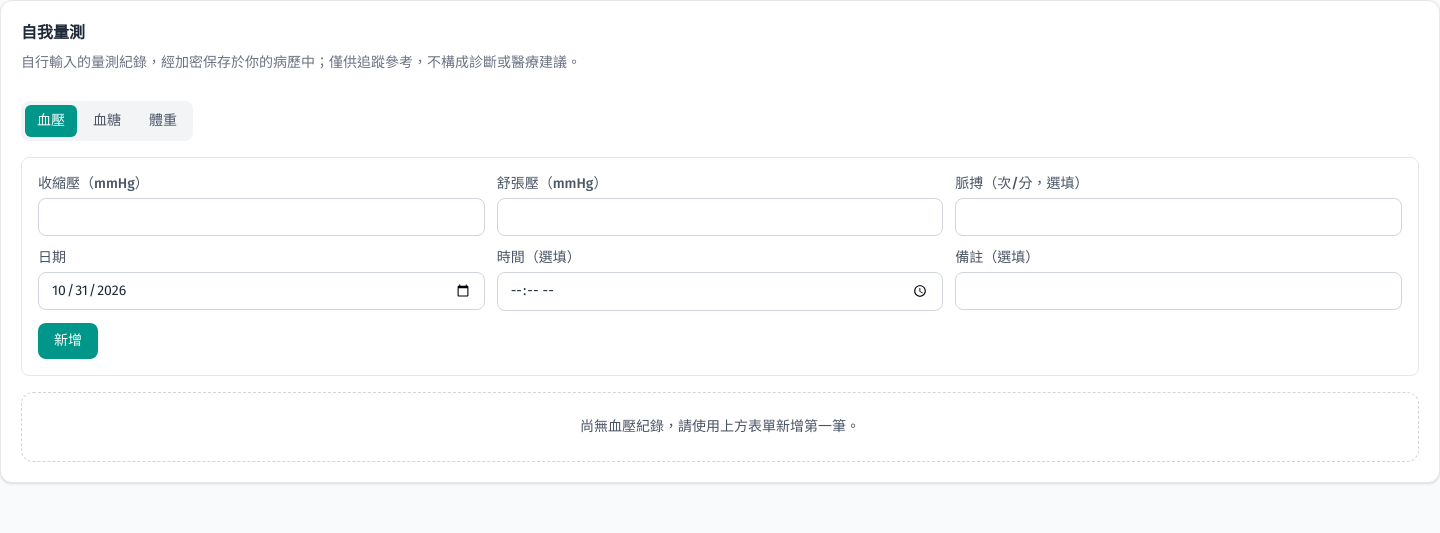
Test: Measurements 自我量測 › 新增紀錄 › 收縮壓不大於舒張壓時顯示錯誤，不呼叫 update 且保留輸入
The width and height of the screenshot is (1440, 533).
Type "80" into the field labelled "收縮壓（mmHg）" at (261, 217), box x1=38 y1=198 x2=485 y2=236
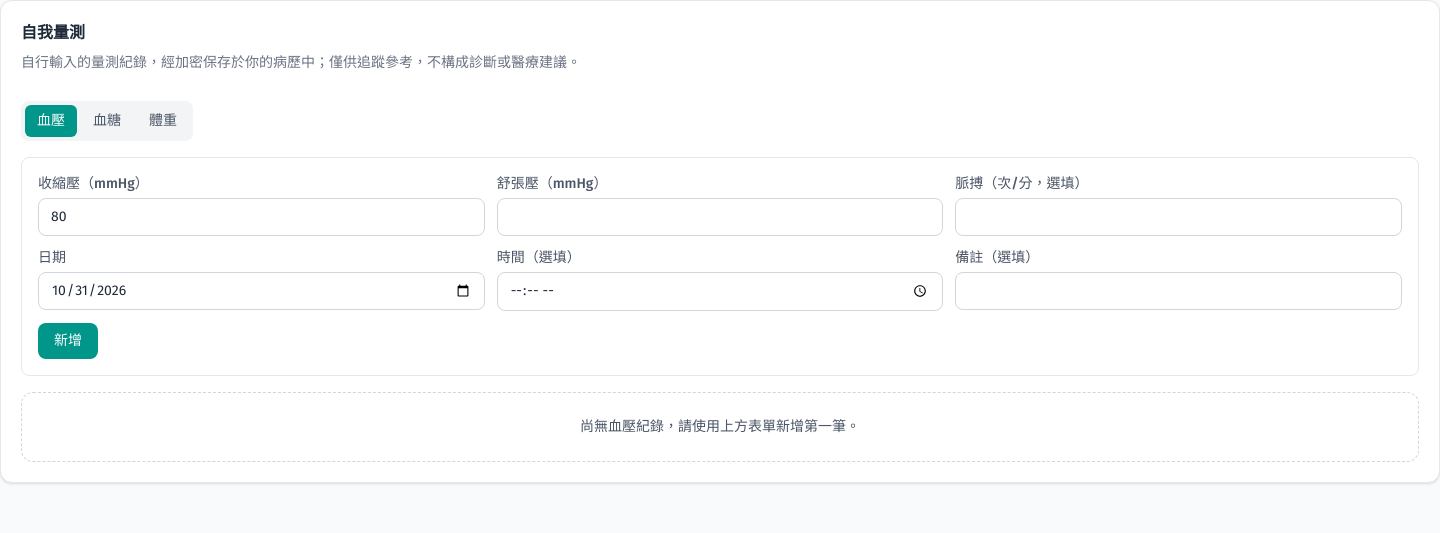
Type "90" into the field labelled "舒張壓（mmHg）" at (720, 217), box x1=497 y1=198 x2=943 y2=236
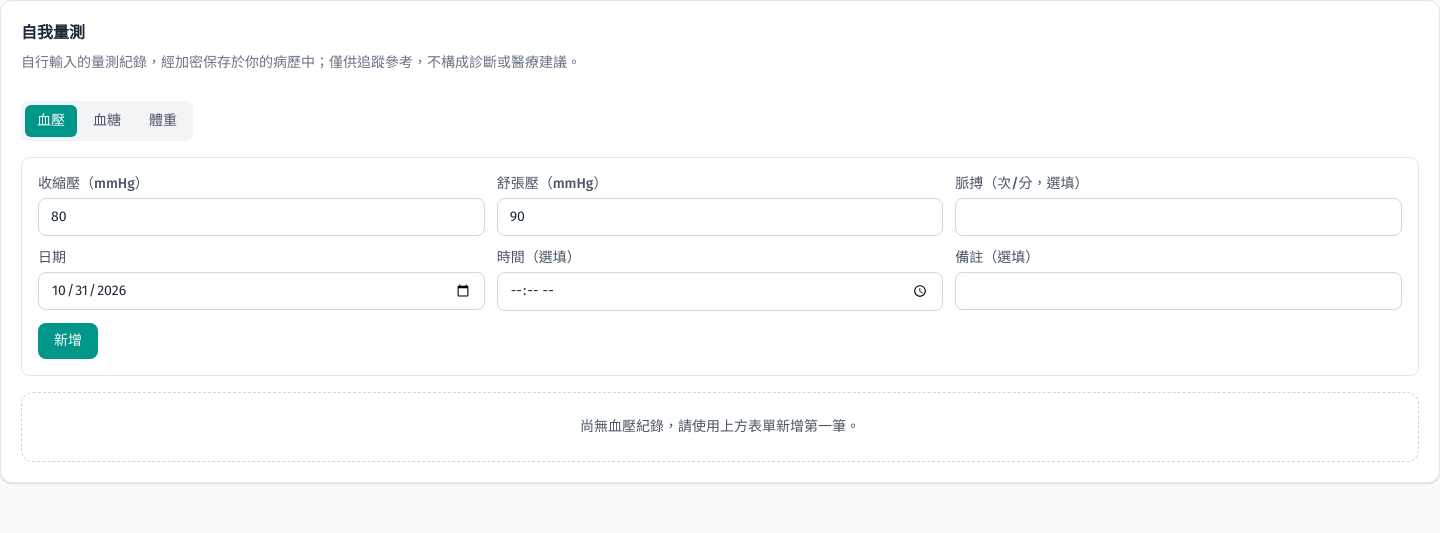
Click the button "新增" at (68, 341), box x1=38 y1=323 x2=98 y2=359
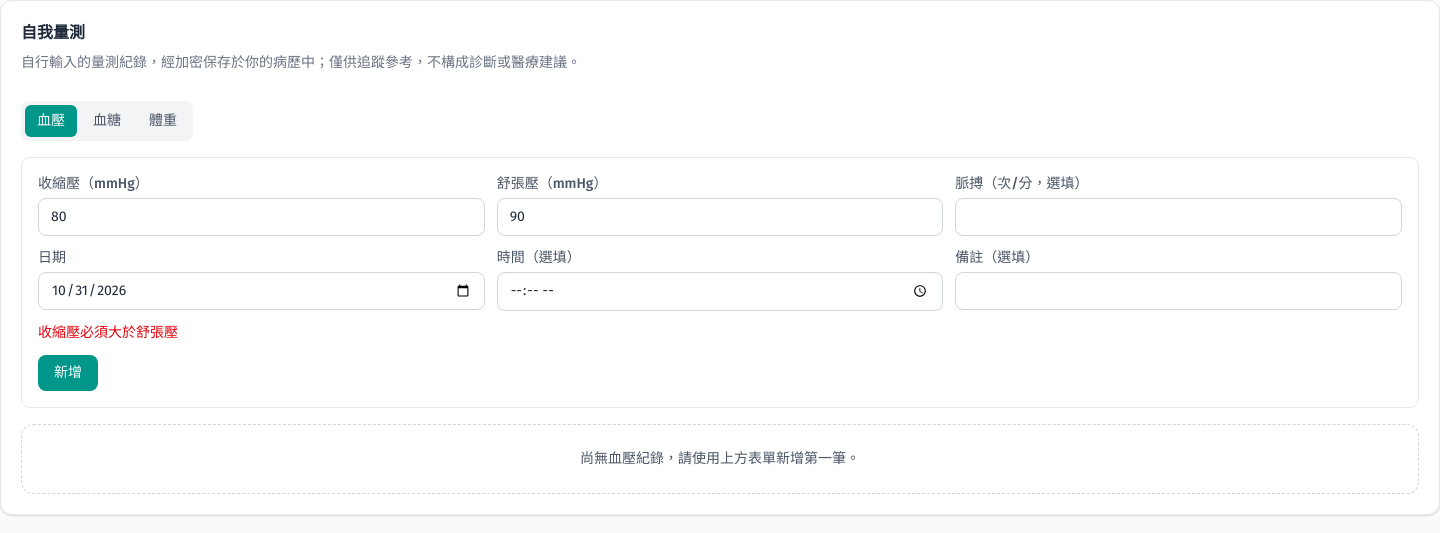
Now the message reads "收縮壓必須大於舒張壓", box x1=38 y1=324 x2=178 y2=341
